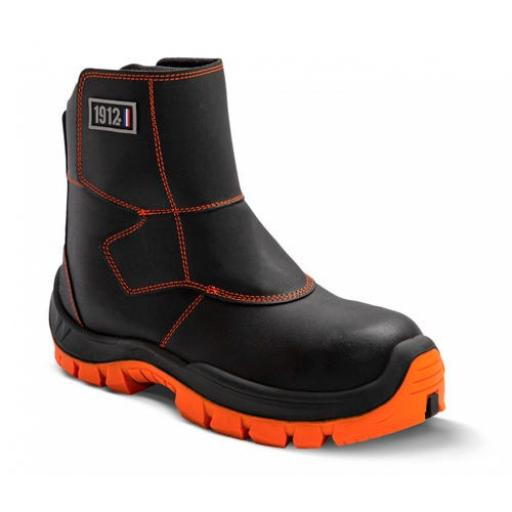safety_boots: (29, 52, 473, 451)
